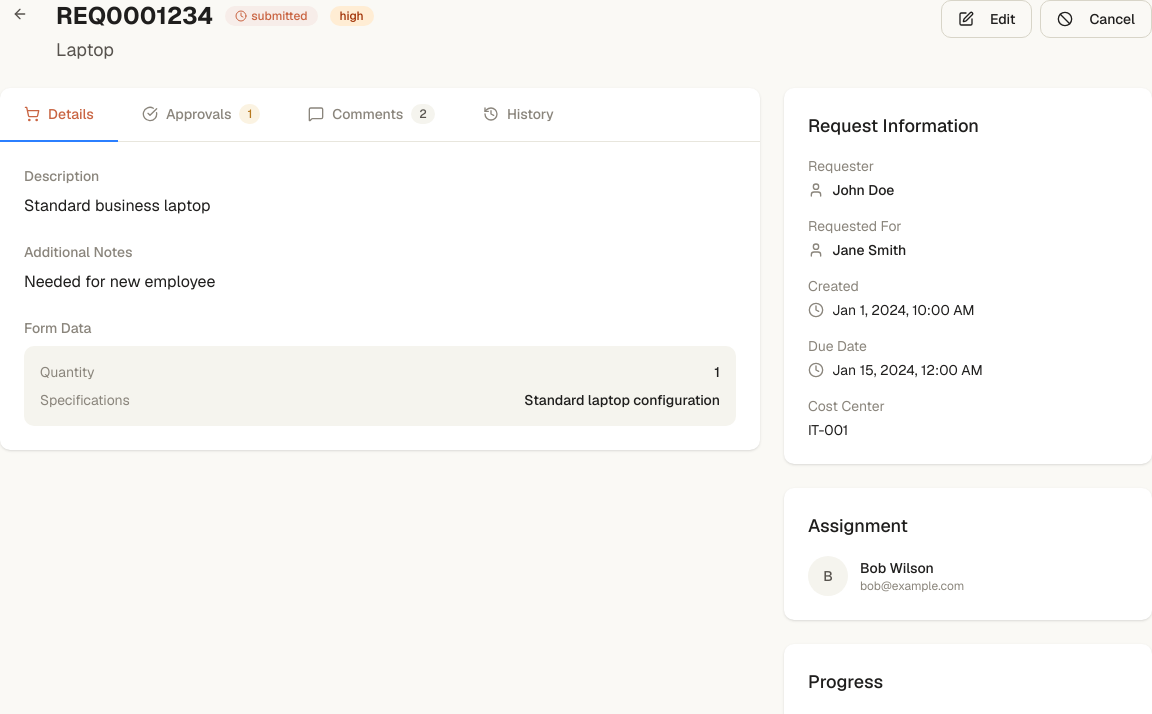
Test: RequestDetailPage › Comments Tab › switches to comments tab when clicked
The width and height of the screenshot is (1152, 714).
Expected: the heading "REQ0001234" is shown, [56,0,213,32]
Step 1. Click the button "Comments 2" → x=372, y=115, box [284,88,459,142]
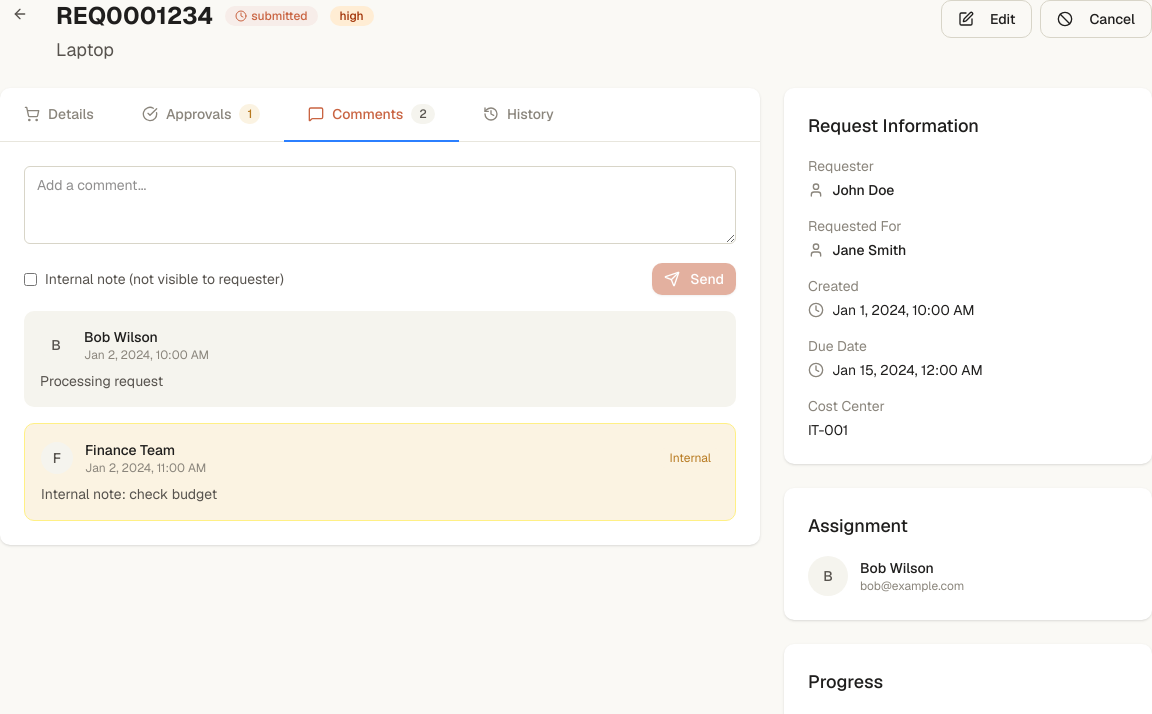
Now the text "Processing request" is shown, box [40,372,163,390]
